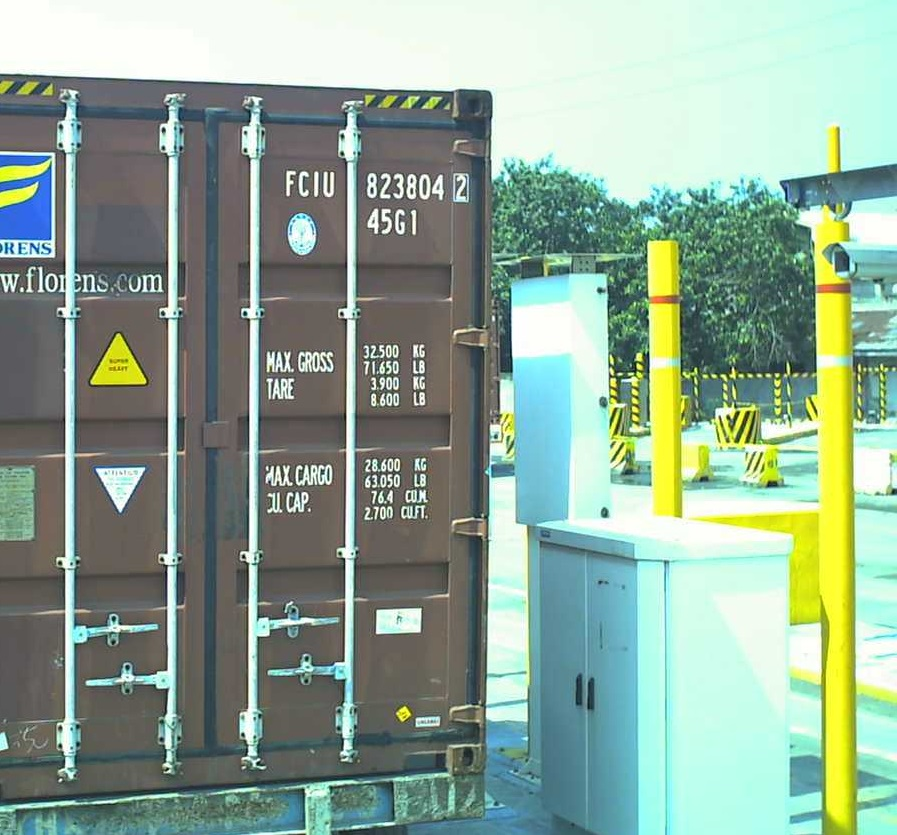container_door: (1, 65, 483, 774)
